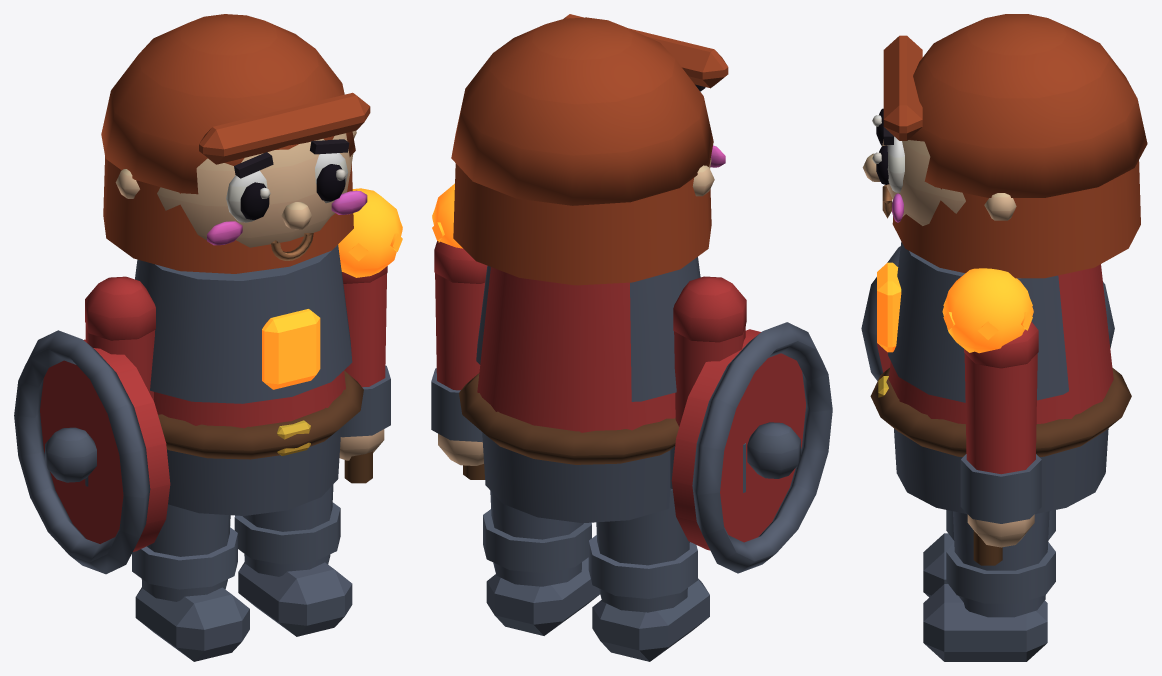
Rendered from hero_ember.glb.
3 renders of one model, left to right at view 1: azimuth 30°, elevation 25°; view 2: azimuth 150°, elevation 25°; view 3: azimuth 270°, elevation 25°, orthographic. The views are drawn at different scales.
Parts seen in each view (by area): view 1: body_t0_palette, arml_t0_palette, legl_t0_palette, legr_t0_palette, armr_t0_palette, body_t0_fire, armr_t0_fire; view 2: body_t0_palette, arml_t0_palette, legl_t0_palette, legr_t0_palette, armr_t0_palette, armr_t0_fire; view 3: body_t0_palette, armr_t0_palette, legr_t0_palette, armr_t0_fire, body_t0_fire, arml_t0_palette, legl_t0_palette.
Boxes of the visible parts, x1=… form: body_t0_palette: x1=101, y1=14, x2=370, y2=515; arml_t0_palette: x1=14, y1=276, x2=170, y2=574; legl_t0_palette: x1=132, y1=504, x2=249, y2=661; legr_t0_palette: x1=234, y1=485, x2=352, y2=636; armr_t0_palette: x1=339, y1=266, x2=390, y2=483; body_t0_fire: x1=262, y1=309, x2=320, y2=389; armr_t0_fire: x1=338, y1=188, x2=402, y2=277; body_t0_palette: x1=451, y1=14, x2=728, y2=523; arml_t0_palette: x1=670, y1=276, x2=832, y2=573; legl_t0_palette: x1=588, y1=489, x2=709, y2=661; legr_t0_palette: x1=483, y1=491, x2=599, y2=635; armr_t0_palette: x1=431, y1=241, x2=487, y2=479; armr_t0_fire: x1=432, y1=183, x2=462, y2=248; body_t0_palette: x1=862, y1=14, x2=1147, y2=513; armr_t0_palette: x1=960, y1=321, x2=1041, y2=565; legr_t0_palette: x1=923, y1=511, x2=1055, y2=661; armr_t0_fire: x1=942, y1=268, x2=1033, y2=353; body_t0_fire: x1=877, y1=262, x2=901, y2=352; arml_t0_palette: x1=861, y1=246, x2=1114, y2=380; legl_t0_palette: x1=923, y1=510, x2=1055, y2=597.
Bounding box in the file's own units: 0.3139 × 0.508 × 0.219.
